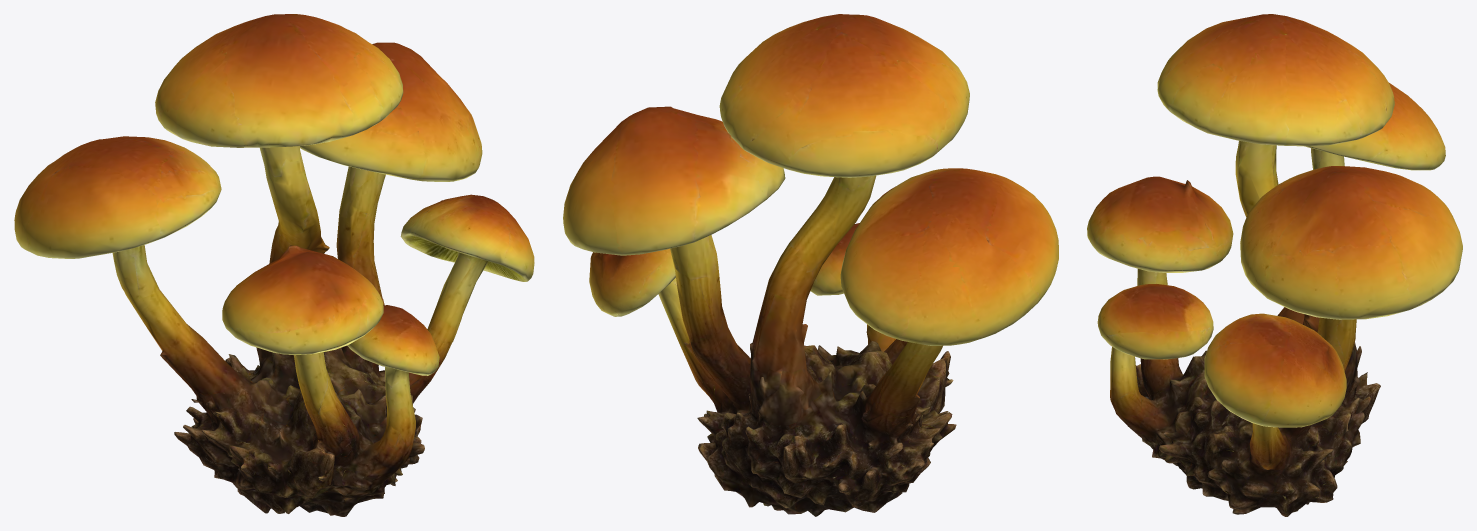
File: demet.glb
3 renders of one model, left to right at view 1: azimuth 30°, elevation 25°; view 2: azimuth 150°, elevation 25°; view 3: azimuth 270°, elevation 25°, orthographic. The views are drawn at different scales.
Size of the model in its own units: 1.89 by 1.9 by 1.38.
1 material, 1 textured.
